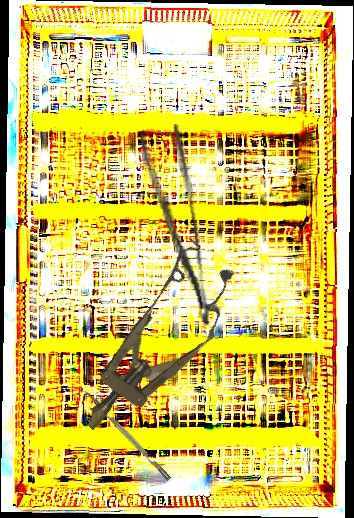Chopper: (77, 386, 172, 485)
Dressing Forceps: (137, 123, 215, 332)
Speculum: (56, 235, 254, 454)
